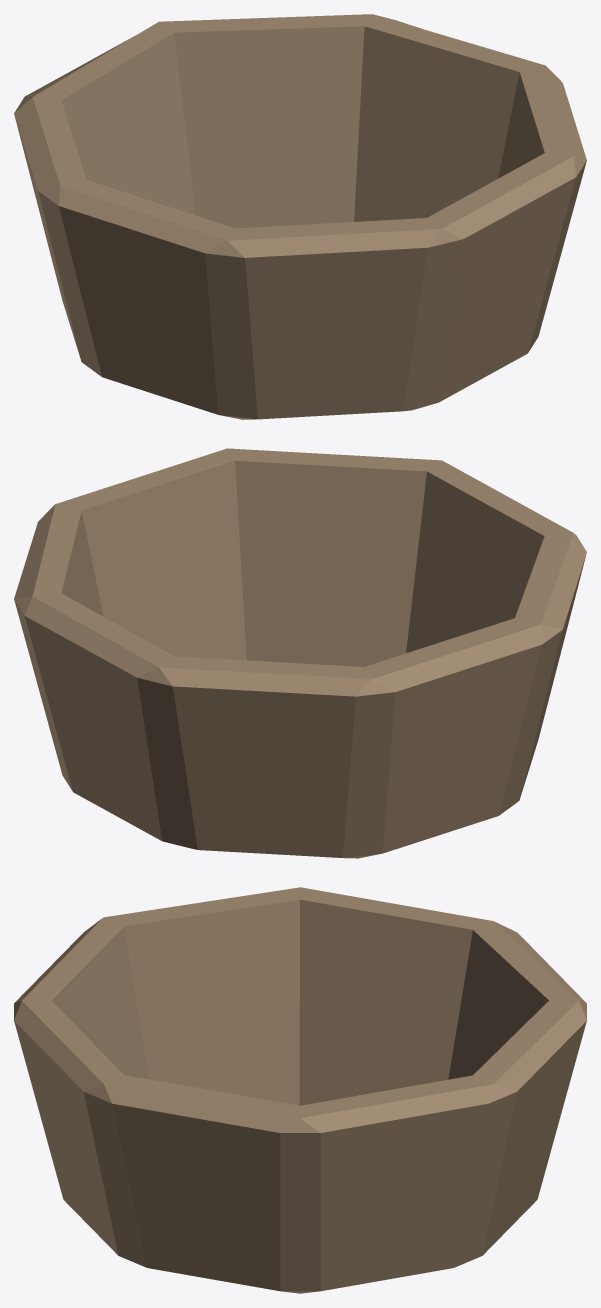
The model's file is fantasy_washbin_1.fbx.
The picture shows the model from 3 angles, top to bottom: view 1: azimuth 30°, elevation 25°; view 2: azimuth 150°, elevation 25°; view 3: azimuth 270°, elevation 25°; orthographic projection.
Parts seen in each view (by area): view 1: Cylinder.019; view 2: Cylinder.019; view 3: Cylinder.019.
Boxes of the visible parts, x1=… form: Cylinder.019: x1=14, y1=14, x2=586, y2=419; Cylinder.019: x1=14, y1=448, x2=586, y2=858; Cylinder.019: x1=14, y1=887, x2=586, y2=1293.
Size of the model in its own units: 105 by 40.52 by 105.
